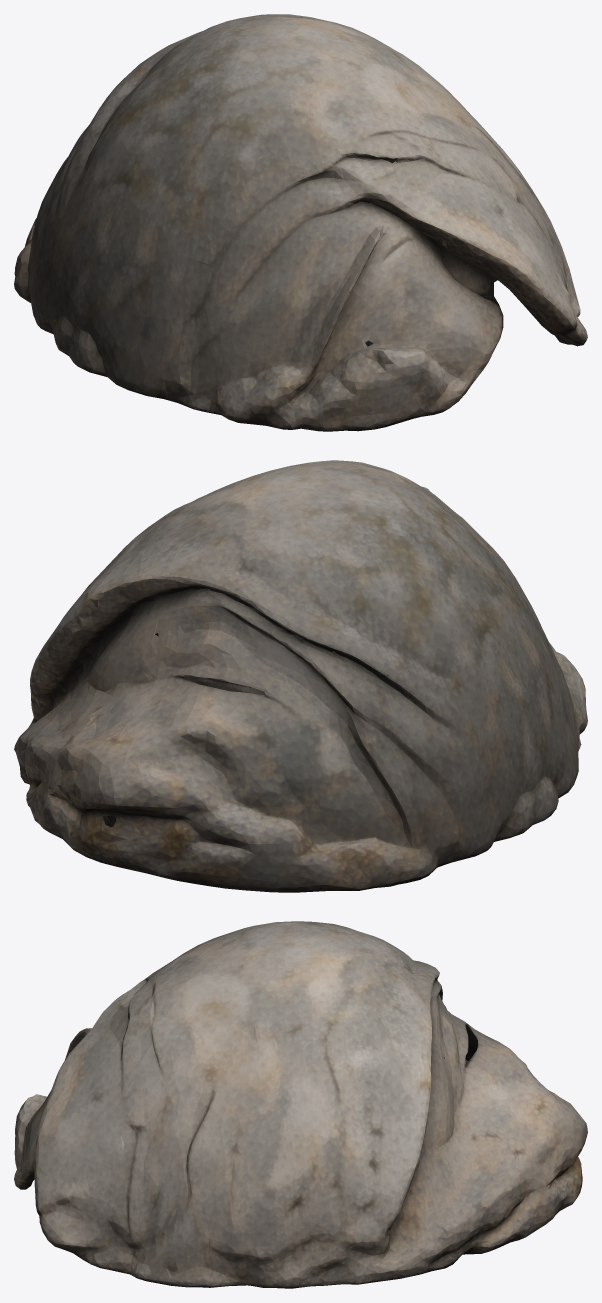
3 views of the same model, one above another, from view 1: azimuth 30°, elevation 25°; view 2: azimuth 150°, elevation 25°; view 3: azimuth 270°, elevation 25° (orthographic). The views are drawn at different scales.
Parts seen in each view (by area): view 1: world; view 2: world; view 3: world.
Part boxes in pixels (x1,y1,x2,y2): world: (14, 14, 587, 431); world: (14, 460, 587, 892); world: (14, 921, 587, 1288).
Bounding box in the file's own units: 0.8331 × 0.4805 × 0.9989.
Materials: 1 (1 with a texture image).
